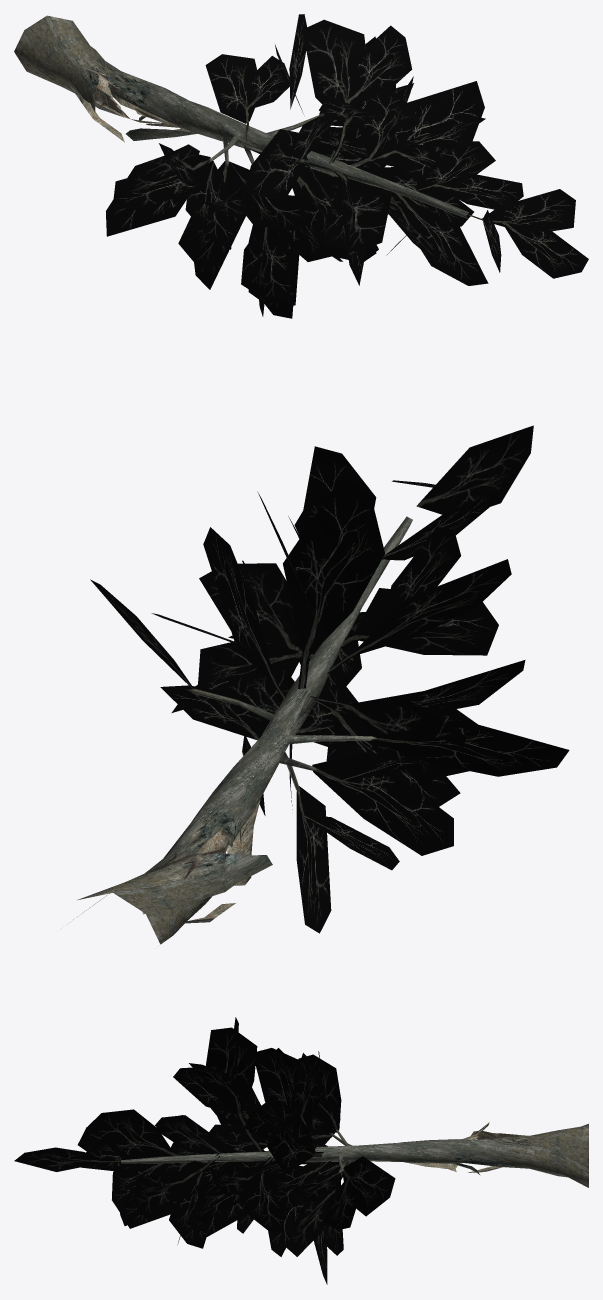
File: tree_destroyed_tree_a.glb
3 renders of one model, top to bottom at view 1: azimuth 30°, elevation 25°; view 2: azimuth 150°, elevation 25°; view 3: azimuth 270°, elevation 25°, orthographic. The views are drawn at different scales.
Size of the model in its own units: 177 by 167 by 347.
2 materials, 2 textured.
